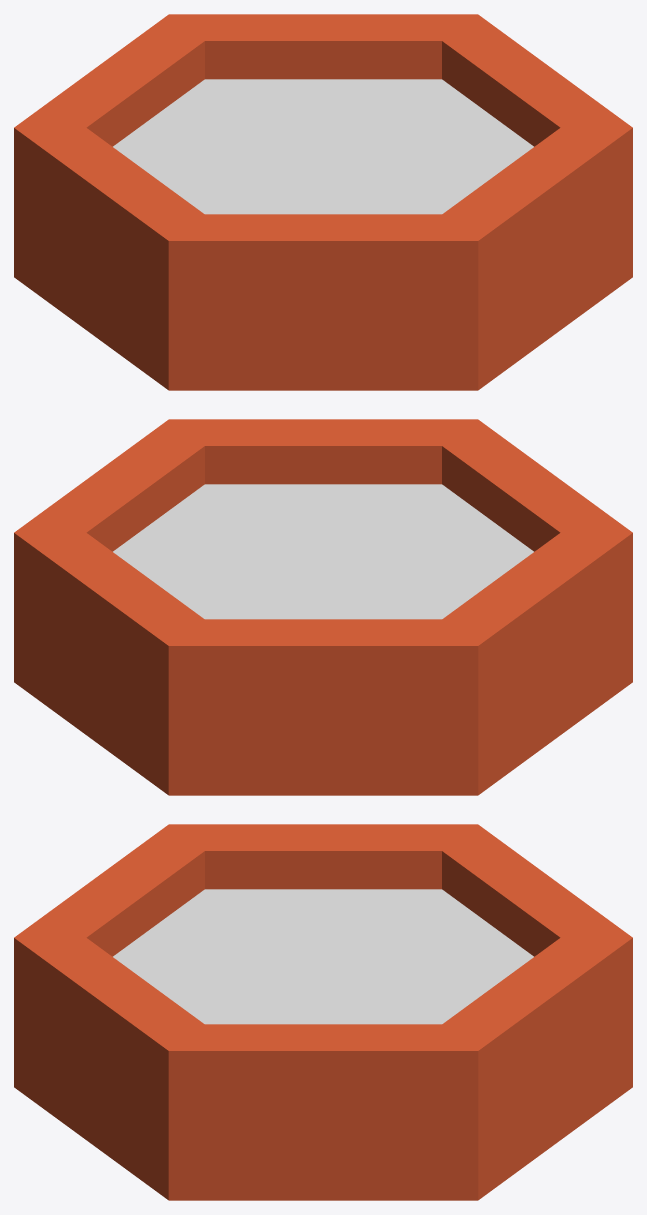
The model's file is flashlight.fbx.
The picture shows the model from 3 angles, top to bottom: view 1: azimuth 30°, elevation 25°; view 2: azimuth 150°, elevation 25°; view 3: azimuth 270°, elevation 25°; orthographic projection.
Visible parts, largest first — view 1: Cylinder.001; view 2: Cylinder.001; view 3: Cylinder.001.
Boxes of the visible parts, x1=… form: Cylinder.001: x1=14, y1=14, x2=632, y2=390; Cylinder.001: x1=14, y1=419, x2=632, y2=795; Cylinder.001: x1=14, y1=824, x2=632, y2=1200.
Size of the model in its own units: 32.93 by 10.14 by 38.03.
